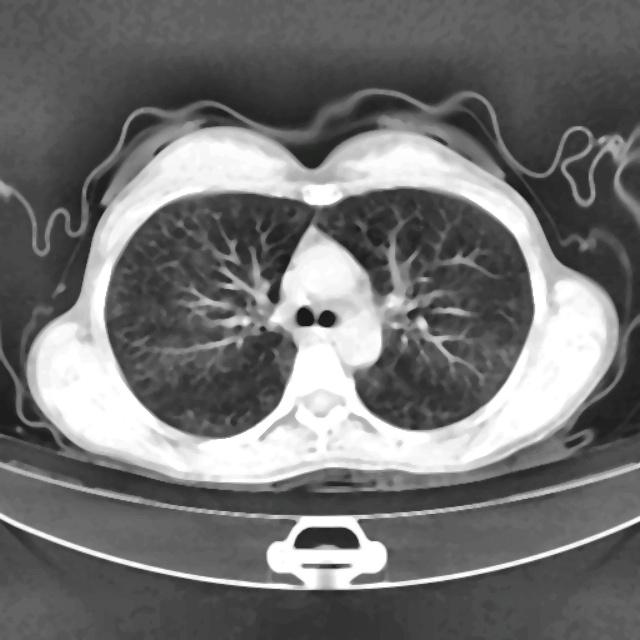covid: (22, 97, 621, 493)
